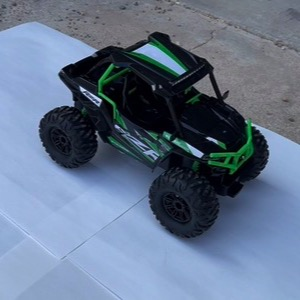polaris: (38, 32, 272, 240)
